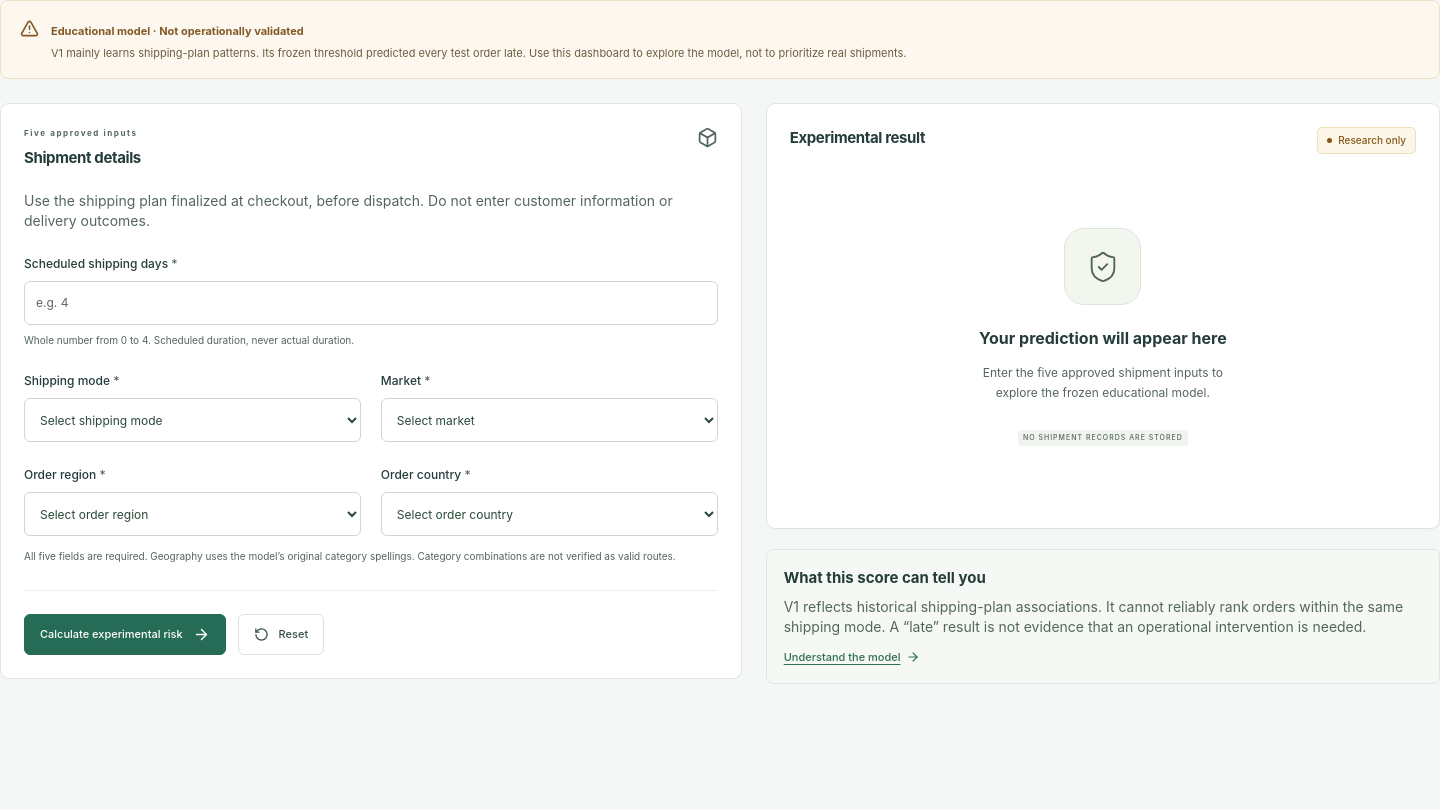
Scenario: shipment prediction form › allows recovery from API error 503
In the number field labelled "Scheduled shipping days *": [371, 303] box x1=24 y1=281 x2=718 y2=325, type "4"
Select "Standard Class" in the dropdown labelled "Shipping mode *": [192, 420] box x1=24 y1=398 x2=361 y2=442
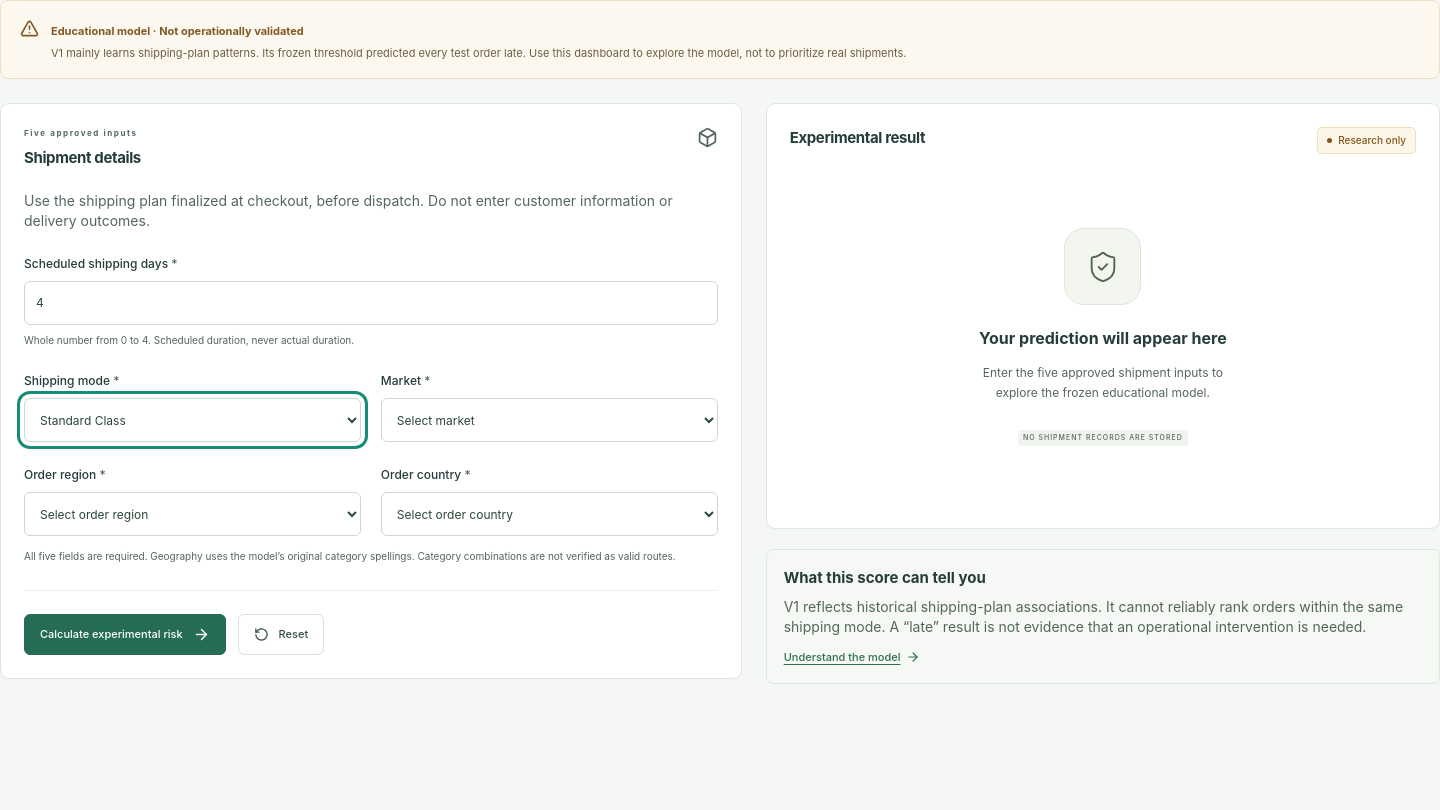
Select "Europe" in the dropdown labelled "Market *": [549, 420] box x1=381 y1=398 x2=718 y2=442
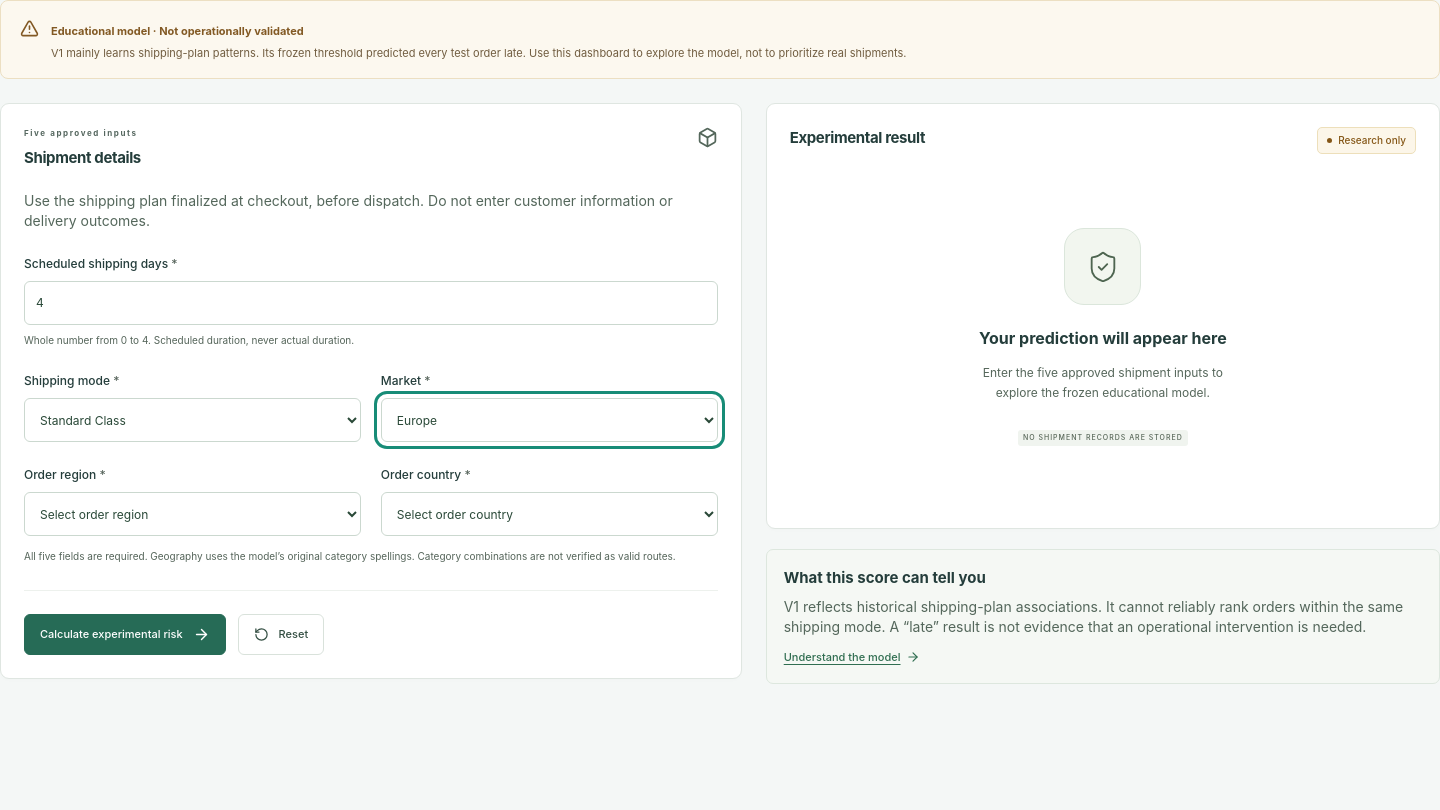
Select "Western Europe" in the dropdown labelled "Order region *": [192, 514] box x1=24 y1=492 x2=361 y2=536
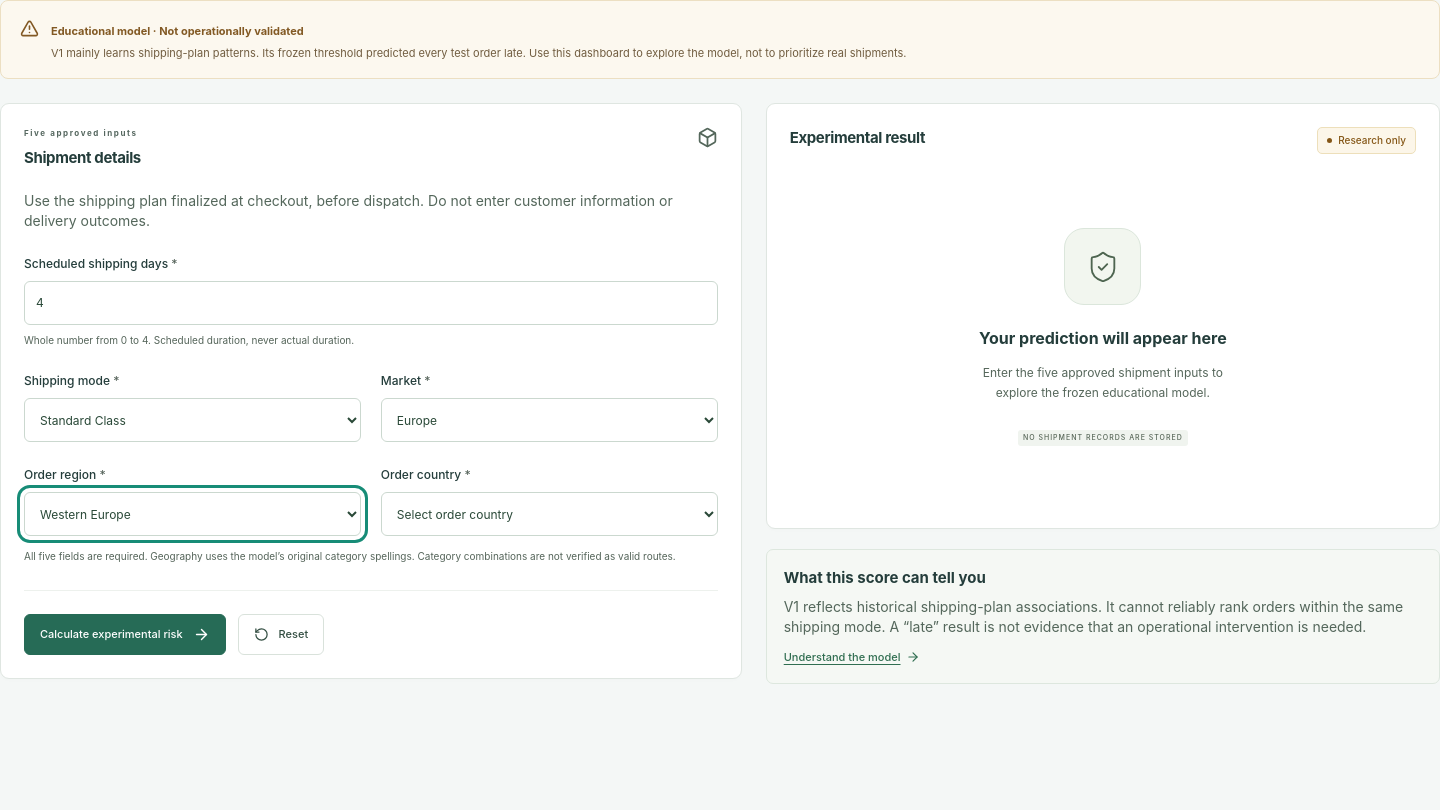
Select "Francia" in the dropdown labelled "Order country *": [549, 514] box x1=381 y1=492 x2=718 y2=536
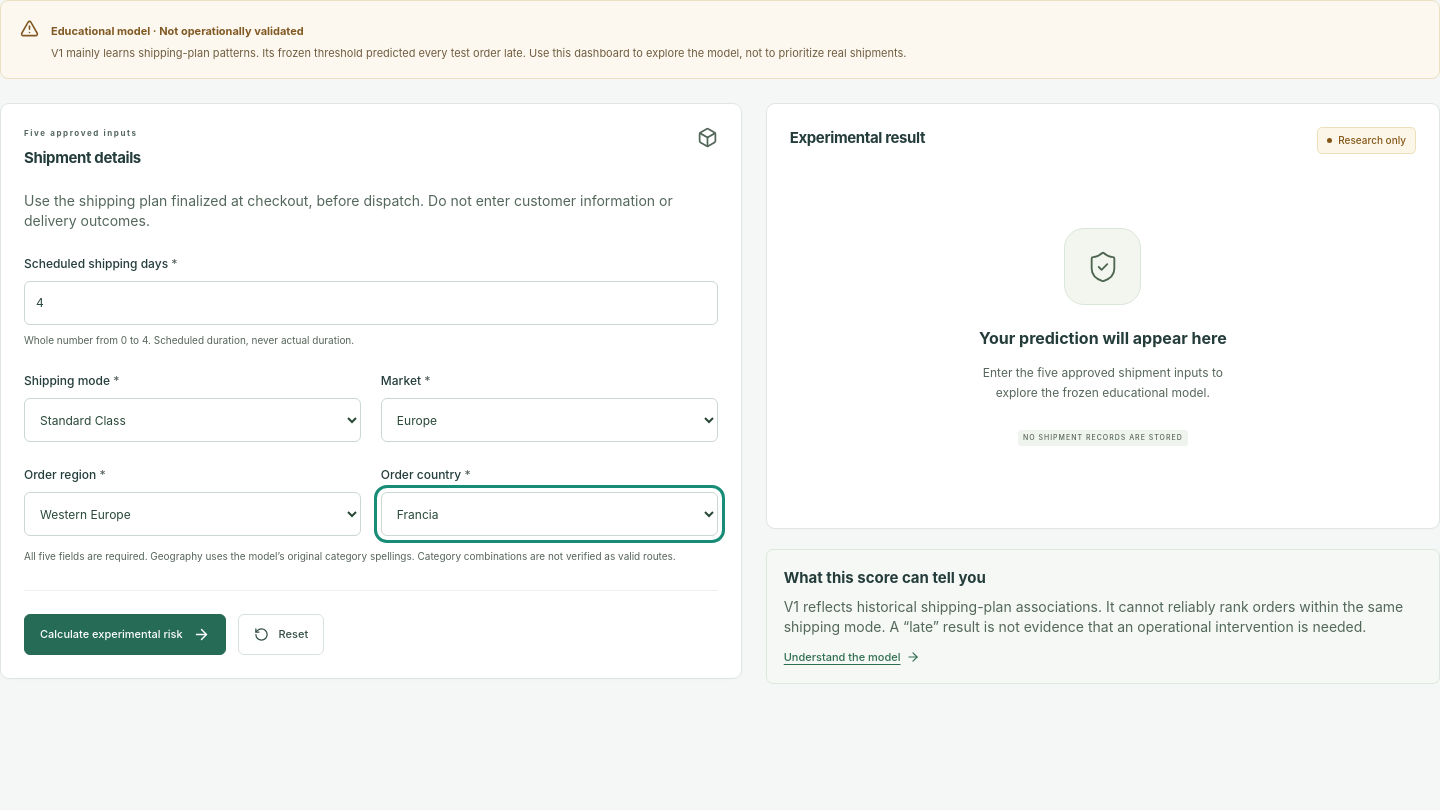
Click the button "Calculate experimental risk": [125, 634] box x1=24 y1=614 x2=226 y2=655
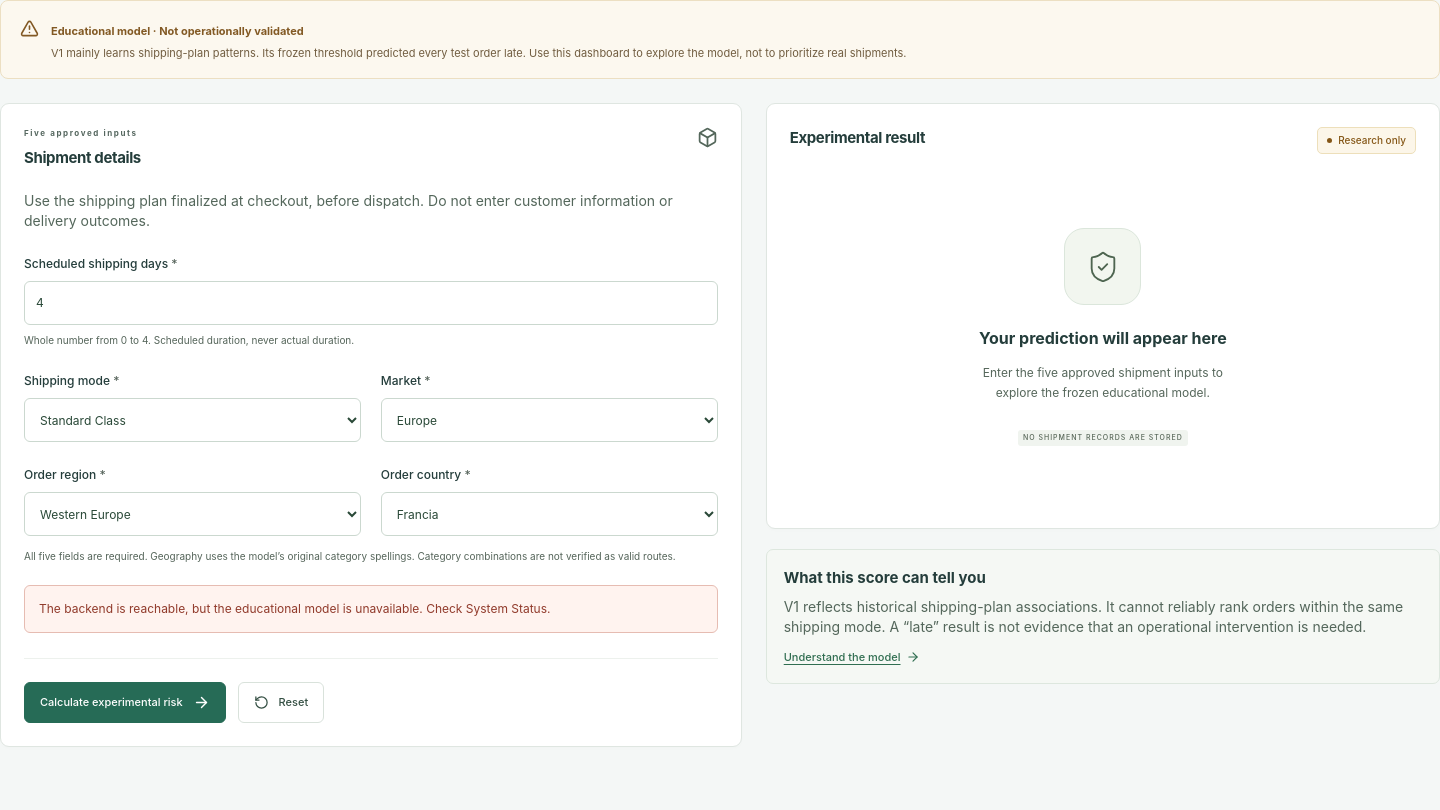
Expected: the button "Calculate experimental risk" is enabled, x1=24 y1=682 x2=226 y2=723
Expected: the message is shown, x1=24 y1=585 x2=718 y2=633
Click the button "Reset": [281, 702] box x1=238 y1=682 x2=324 y2=723
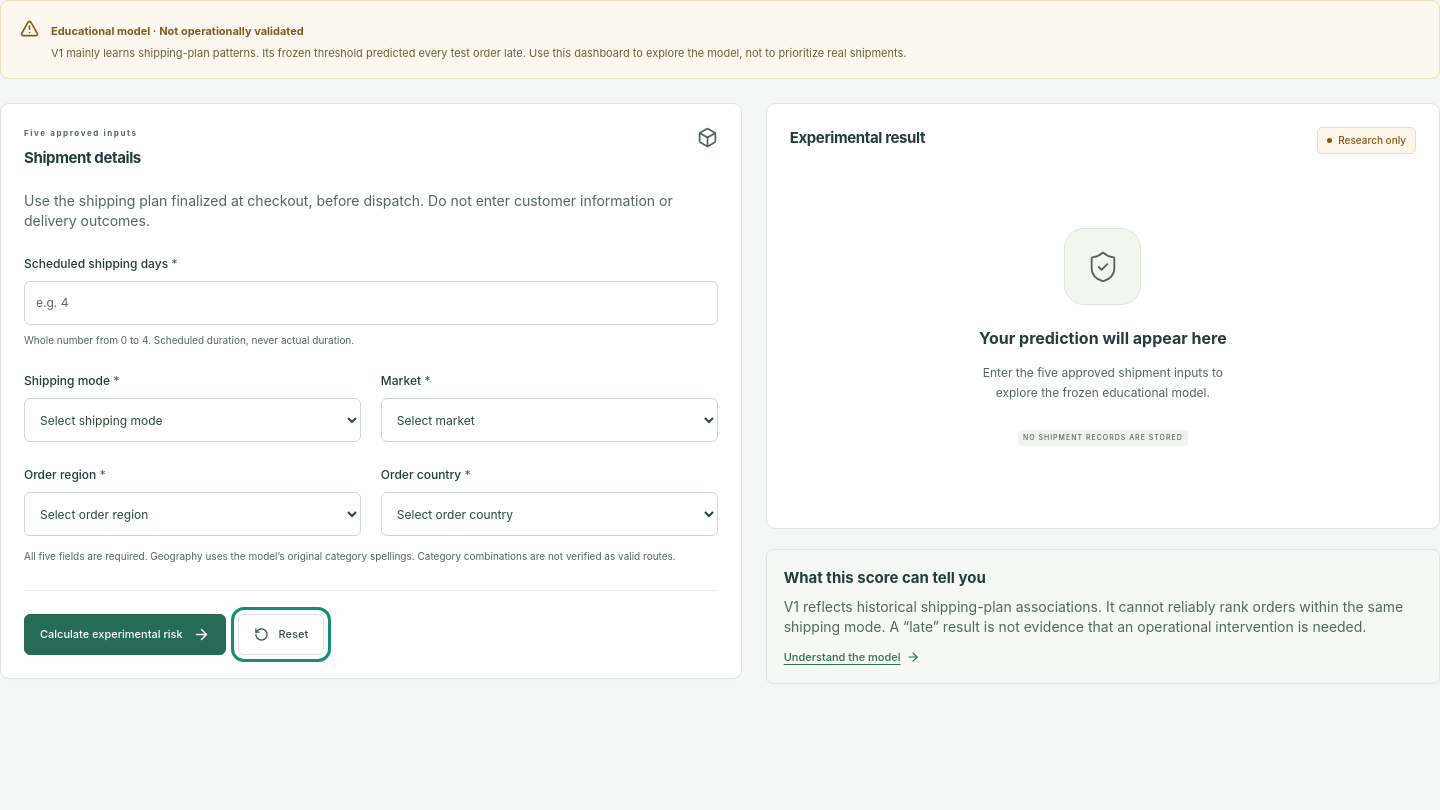
Expected: the number field is not empty, x1=24 y1=281 x2=718 y2=325
Expected: the message is gone
